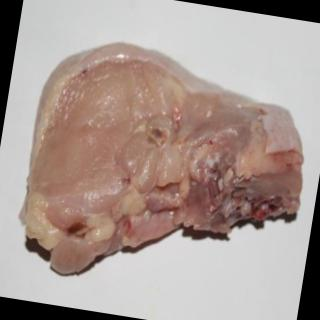Ayam: (13, 37, 320, 312)
